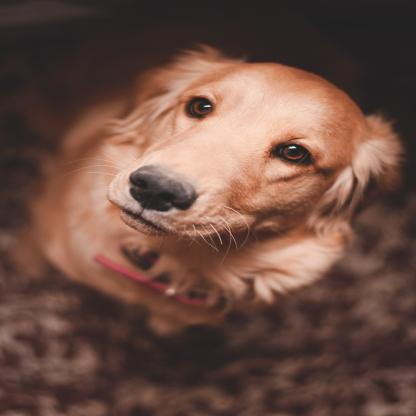dog: (32, 49, 397, 337)
